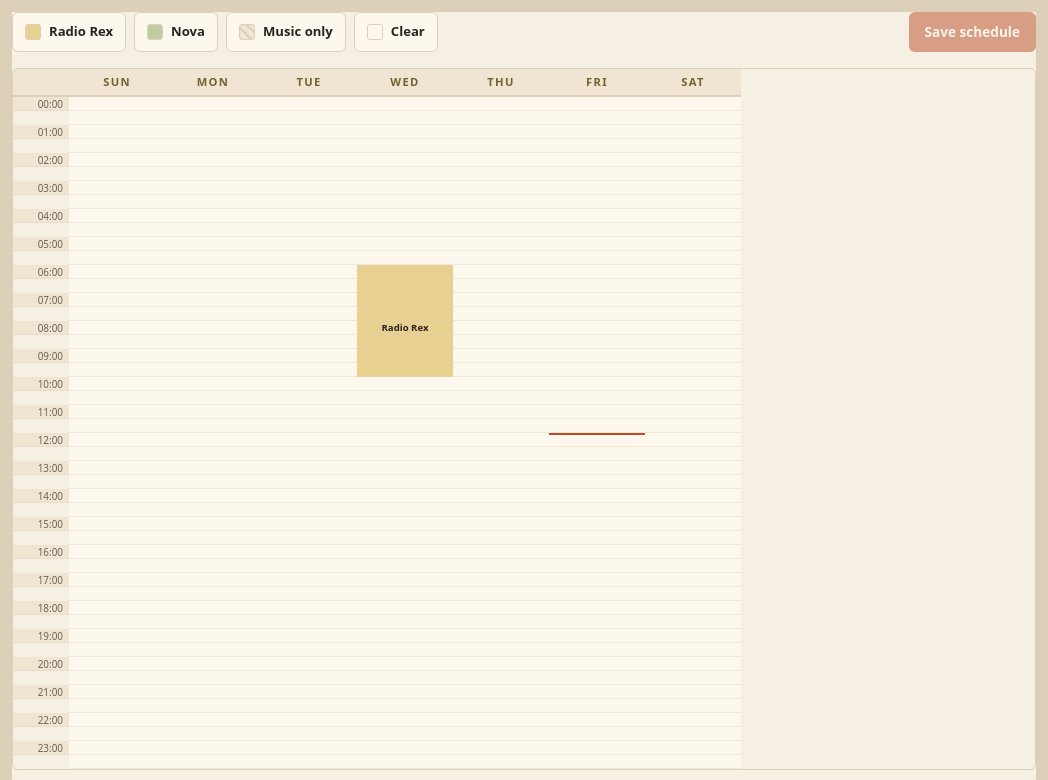
Test: Feature: Grid show picker with span-assign › Scenario: the run rule › the picker lists shows by name with a clear-none option
Press the mouse on the button named "Wednesday 07:30–08:00, Radio Rex" at (405, 314), box [357,307,453,321]
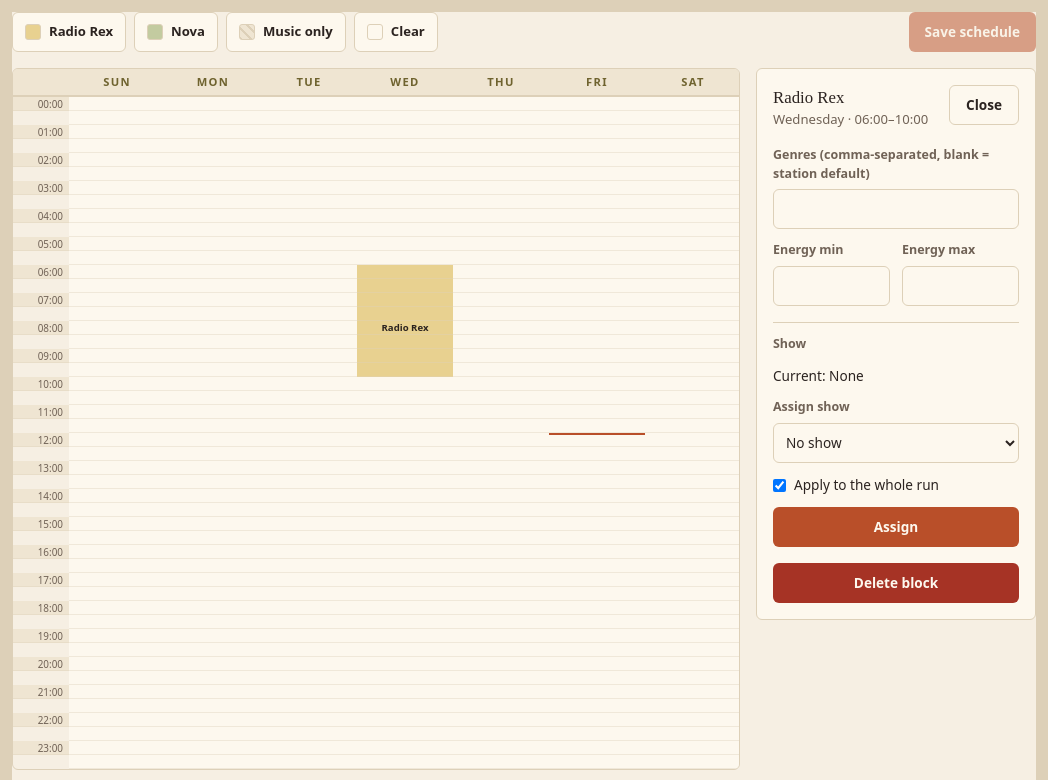
Result: the dropdown labelled "Assign show" is enabled at [773,423,1019,463]
